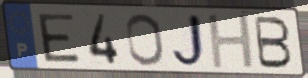4: (86, 11, 121, 67)
B: (253, 14, 294, 71)
E: (35, 12, 82, 64)
H: (205, 12, 258, 71)
J: (170, 11, 210, 70)
O: (124, 12, 167, 68)
